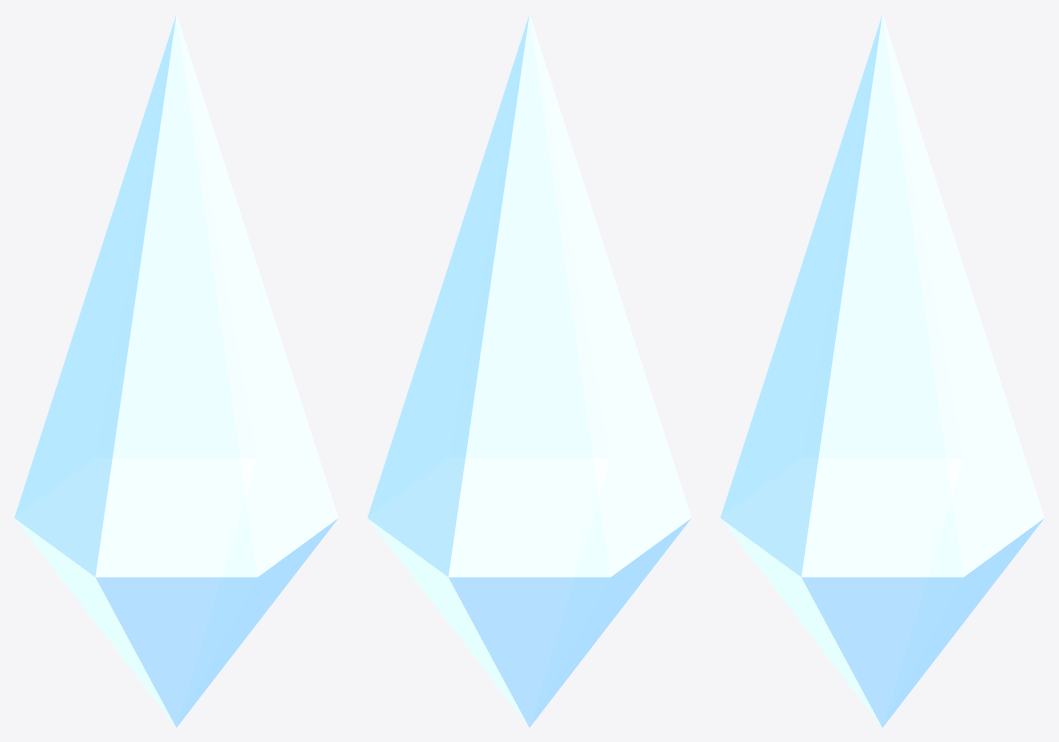
The model's file is ice_shard.glb.
3 renders of one model, left to right at view 1: azimuth 30°, elevation 25°; view 2: azimuth 150°, elevation 25°; view 3: azimuth 270°, elevation 25°, orthographic.
Parts seen in each view (by area): view 1: ice_shard; view 2: ice_shard; view 3: ice_shard.
Boxes of the visible parts, x1,y1,x2,y2 form: ice_shard: [14, 14, 338, 727]; ice_shard: [367, 14, 691, 727]; ice_shard: [720, 14, 1044, 727].
Bounding box in the file's own units: 0.0606 × 0.17 × 0.07.
